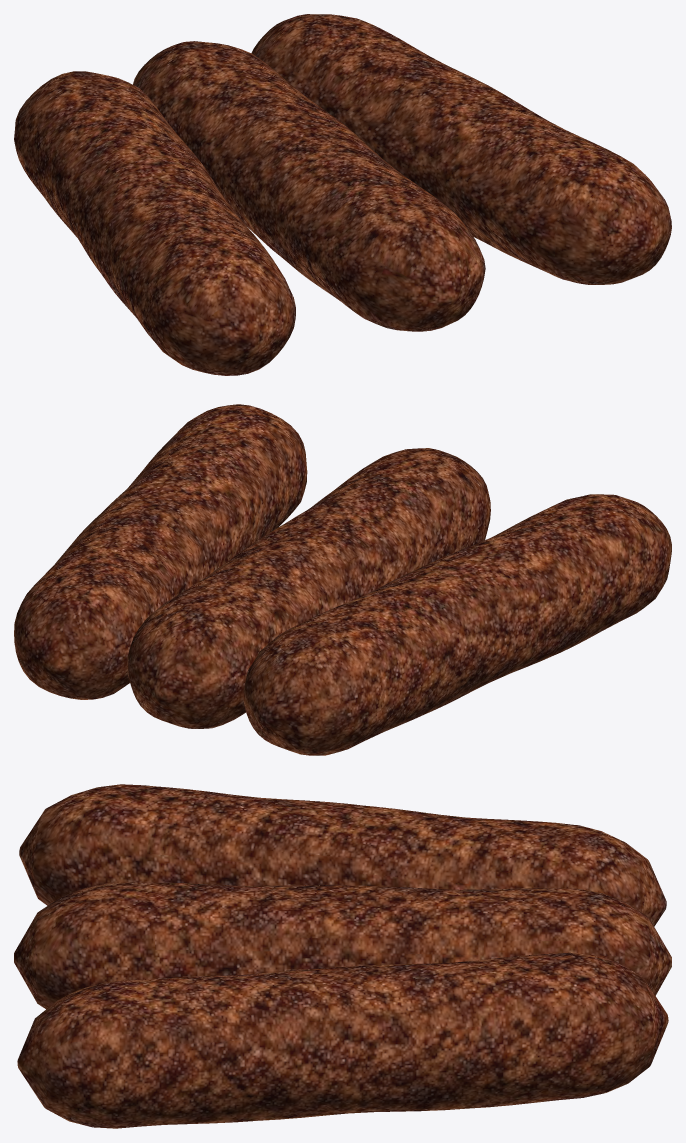
Rendered from savory-sausage.glb.
3 renders of one model, top to bottom at view 1: azimuth 30°, elevation 25°; view 2: azimuth 150°, elevation 25°; view 3: azimuth 270°, elevation 25°, orthographic. The views are drawn at different scales.
Parts seen in each view (by area): view 1: savory-sausage; view 2: savory-sausage; view 3: savory-sausage.
Part boxes in pixels (x1,y1,x2,y2): savory-sausage: [14, 14, 671, 375]; savory-sausage: [14, 404, 671, 755]; savory-sausage: [14, 784, 671, 1128].
Size of the model in its own units: 1.39 by 0.3209 by 1.45.
1 material, 1 textured.
